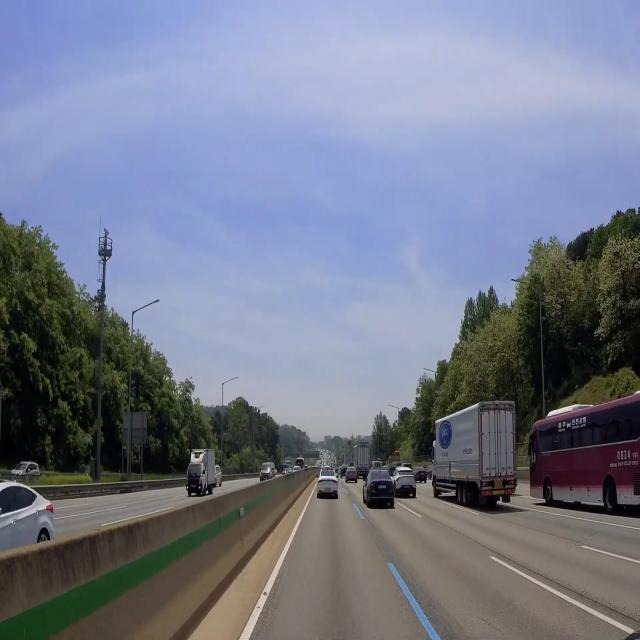car: (493, 483, 505, 491), (323, 486, 333, 493), (188, 484, 198, 491), (378, 484, 387, 490), (403, 485, 411, 489)
